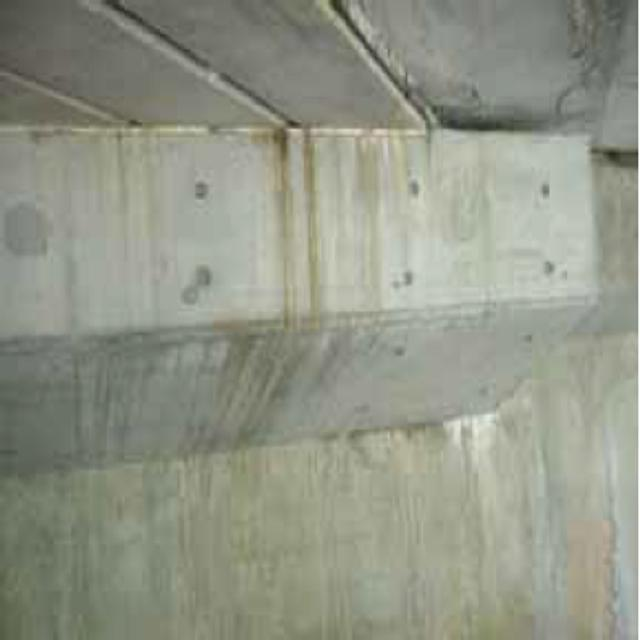leakage: (266, 115, 393, 332)
